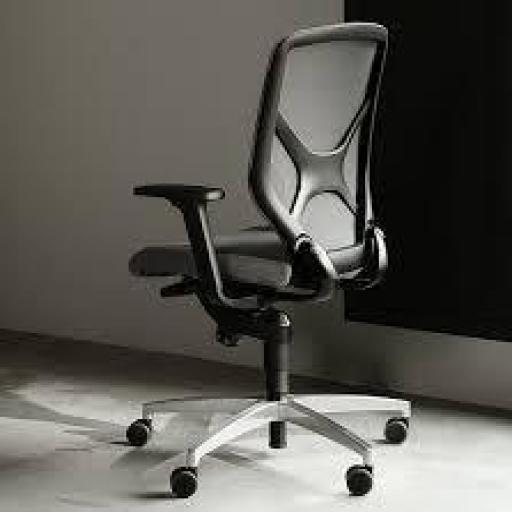chair: (123, 14, 419, 508)
